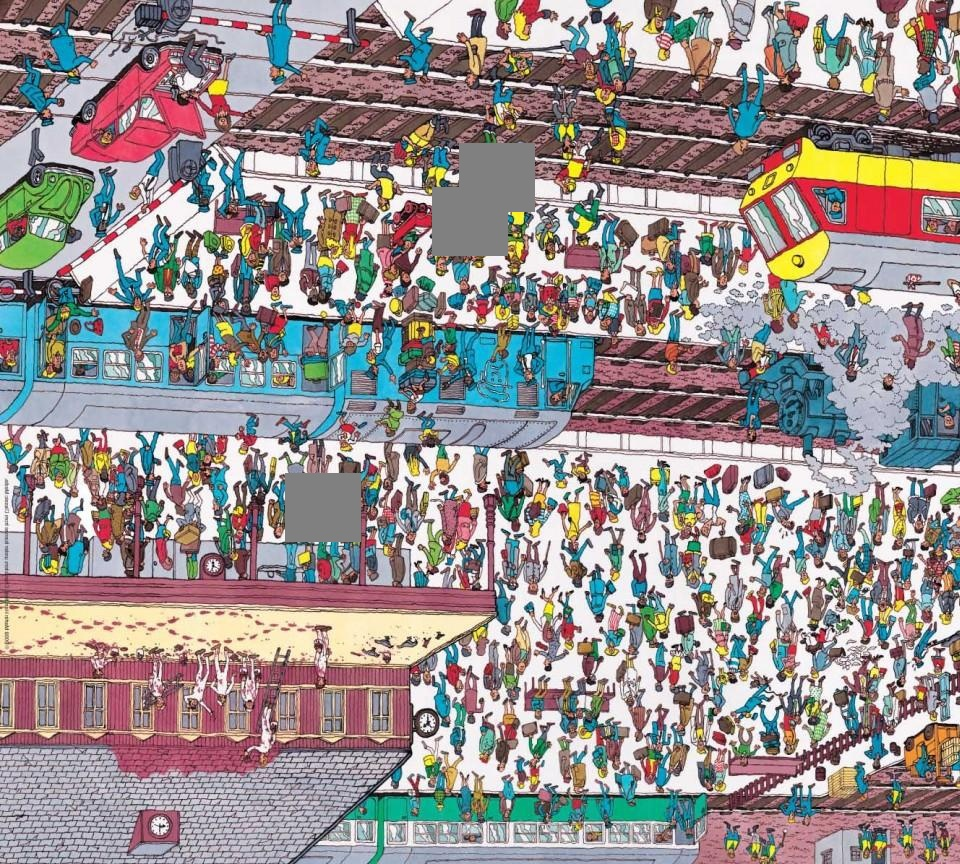waldo: (925, 559, 950, 589)
